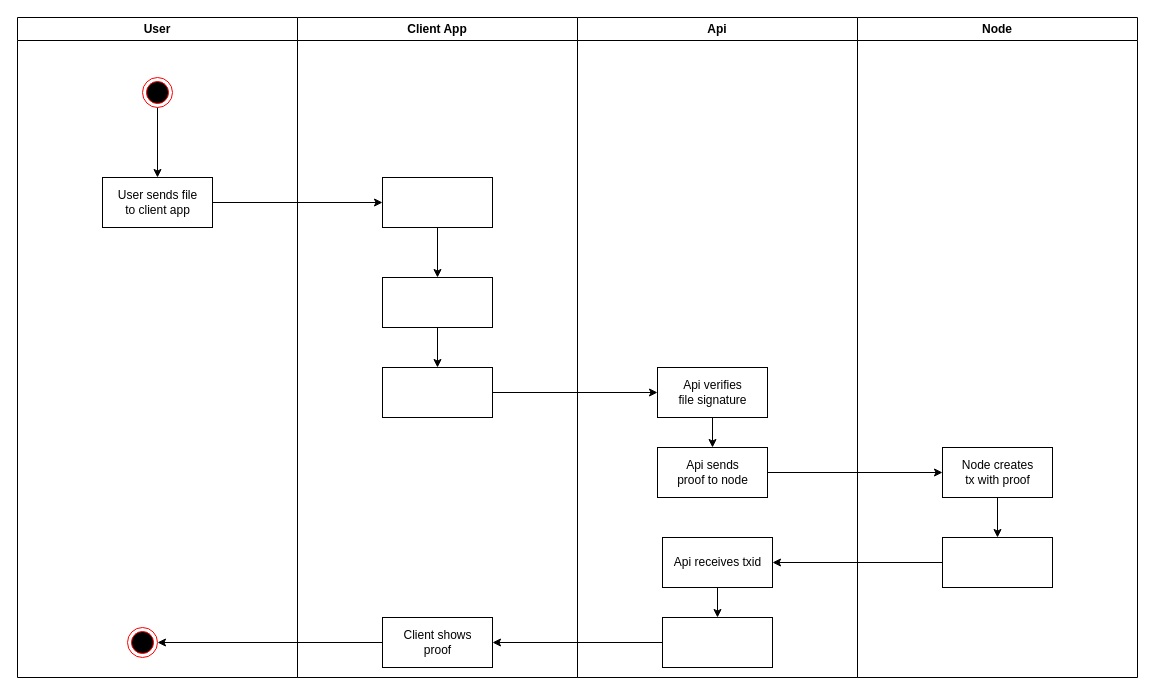
This 1155x695 diagram has some shape labels left out. Each missing label, with the centre of its shape:
"Api sends back full proof" goes at pixel 717 642.
"App creates hash of file" goes at pixel 437 202.
"App send user proof to timestamp api" goes at pixel 437 392.
"App signs hash with user public key" goes at pixel 437 302.
"Node sends back txid" goes at pixel 997 562.
